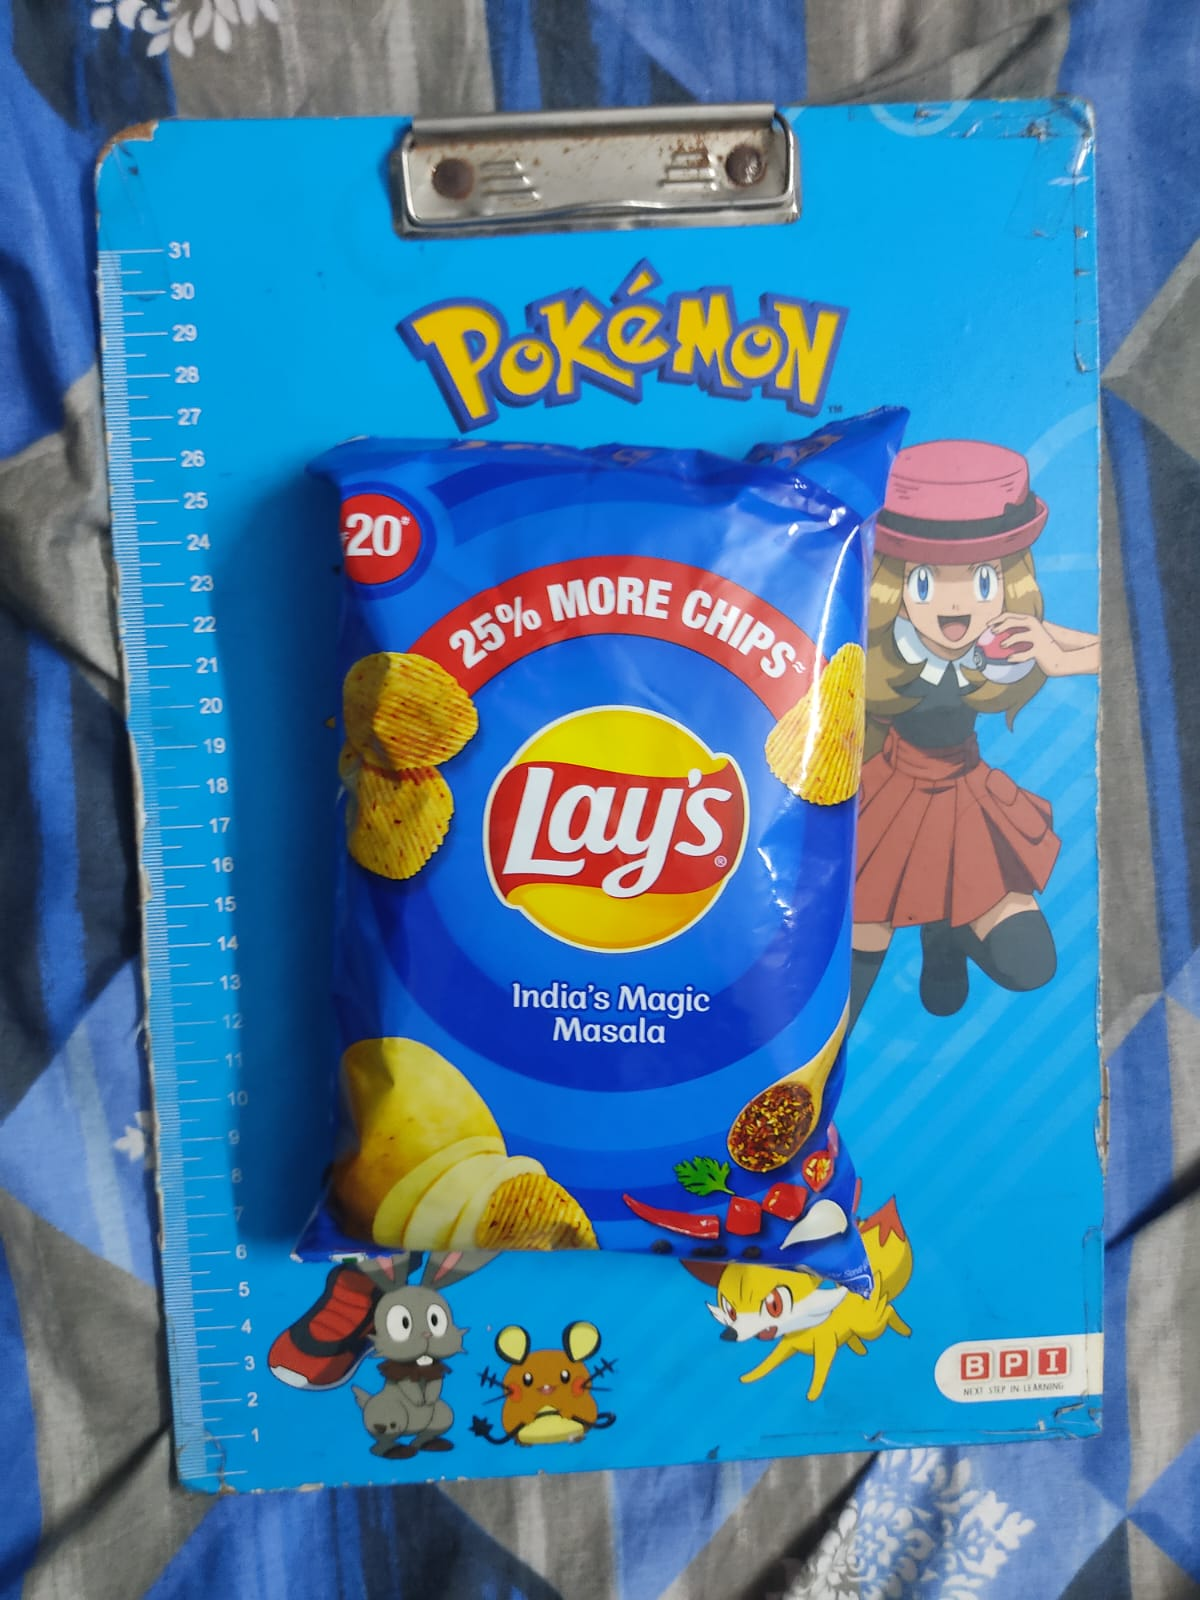020_BlueLays: (318, 454, 875, 1279)
